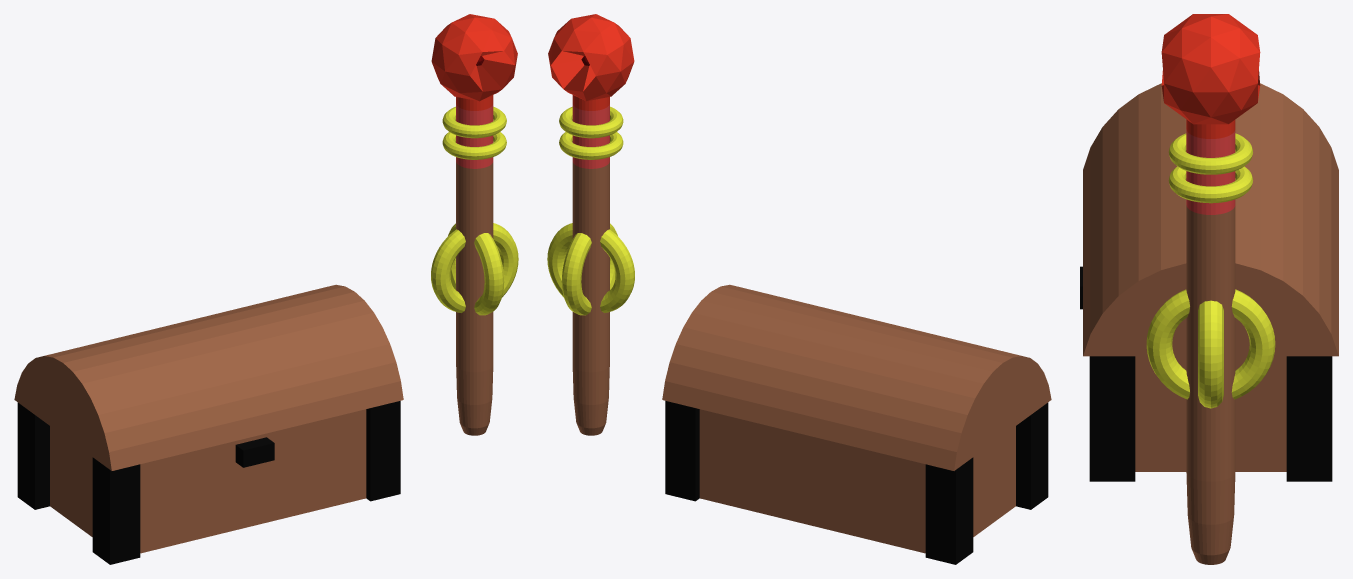
File: DungeonObjects.fbx
3 views of the same model, side by side, from view 1: azimuth 30°, elevation 25°; view 2: azimuth 150°, elevation 25°; view 3: azimuth 270°, elevation 25° (orthographic). The views are drawn at different scales.
Parts seen in each view (by area): view 1: Cylinder, Chest, Staff, Icosphere, Cube.001, Cube.004, Cube.002, Torus.003, Torus.002, Torus, Torus.001, Cube.005; view 2: Cylinder, Chest, Staff, Icosphere, Cube.002, Cube.003, Cube.001, Torus.003, Torus.002, Torus, Torus.001; view 3: Cylinder, Staff, Chest, Icosphere, Cube.003, Cube.004, Torus.002, Torus.003, Torus, Torus.001.
Boxes of the visible parts, x1,y1,x2,y2 form: Cylinder: (14, 284, 403, 470); Chest: (50, 409, 366, 553); Staff: (456, 95, 493, 435); Icosphere: (431, 14, 517, 101); Cube.001: (92, 457, 140, 564); Cube.004: (366, 401, 400, 501); Cube.002: (17, 402, 49, 509); Torus.003: (431, 223, 518, 312); Torus.002: (448, 223, 504, 315); Torus: (442, 106, 506, 138); Torus.001: (442, 132, 506, 159); Cube.005: (235, 437, 274, 467); Cylinder: (662, 284, 1051, 470); Chest: (699, 409, 1015, 553); Staff: (572, 95, 609, 435); Icosphere: (548, 14, 634, 101); Cube.002: (925, 457, 973, 564); Cube.003: (665, 401, 699, 501); Cube.001: (1016, 402, 1048, 509); Torus.003: (547, 223, 634, 312); Torus.002: (561, 223, 617, 315); Torus: (559, 106, 623, 138); Torus.001: (559, 132, 623, 159); Cylinder: (1083, 83, 1338, 356); Staff: (1186, 119, 1235, 564); Chest: (1135, 356, 1286, 471); Icosphere: (1161, 14, 1260, 124); Cube.003: (1286, 356, 1332, 481); Cube.004: (1089, 356, 1135, 481); Torus.002: (1146, 289, 1275, 399); Torus.003: (1198, 300, 1223, 408); Torus: (1168, 133, 1252, 174); Torus.001: (1168, 166, 1252, 203).
Size of the model in its own units: 349 by 303 by 131.
